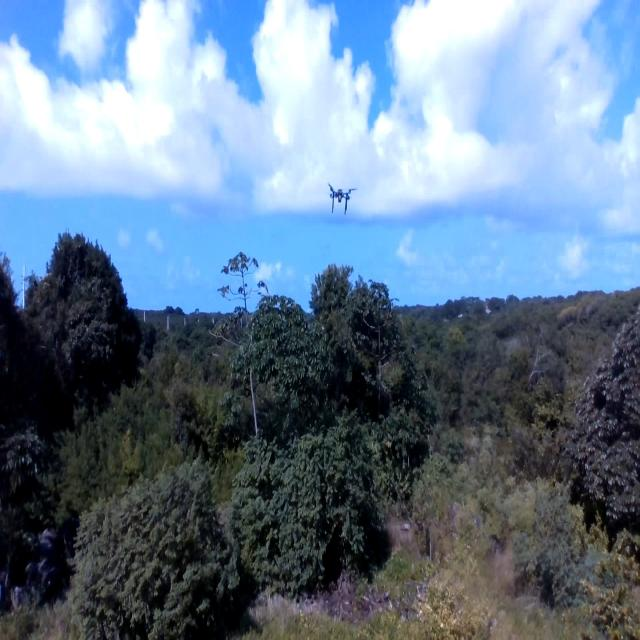-uav-: (323, 175, 352, 219)
